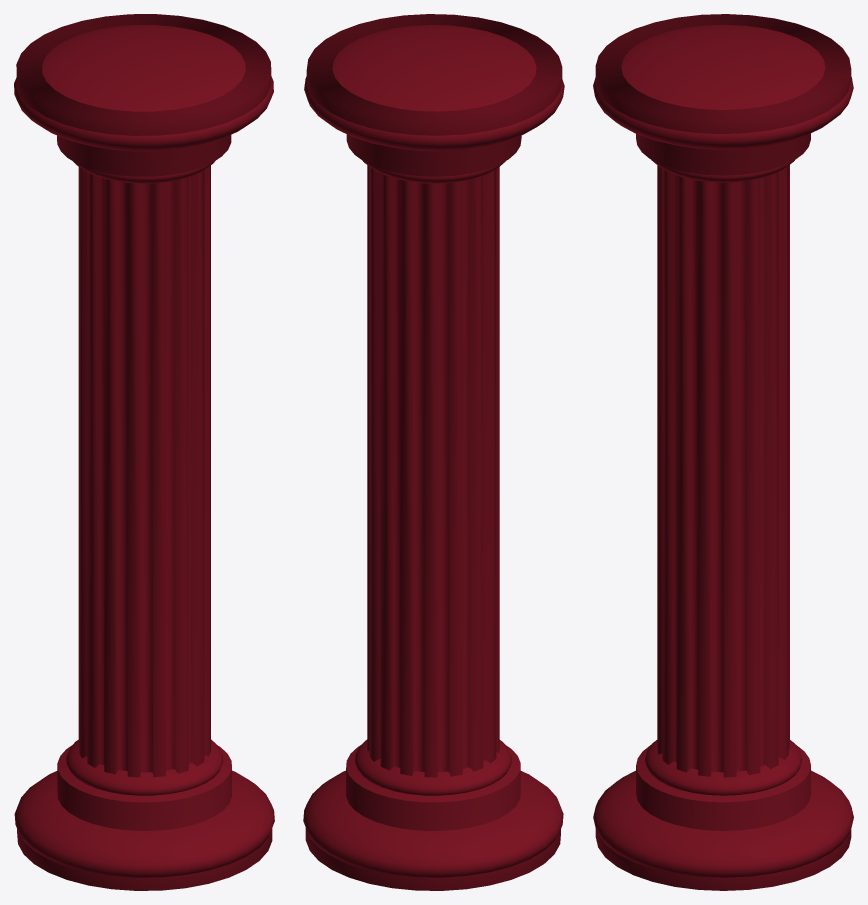
File: column.fbx
3 views of the same model, side by side, from view 1: azimuth 30°, elevation 25°; view 2: azimuth 150°, elevation 25°; view 3: azimuth 270°, elevation 25° (orthographic).
Parts seen in each view (by area): view 1: Cylinder, Sphere.003, Cylinder.001, Sphere.001, Sphere, Sphere.002; view 2: Cylinder, Sphere.003, Cylinder.001, Sphere.001, Sphere, Sphere.002; view 3: Cylinder, Sphere.003, Cylinder.001, Sphere.001, Sphere, Sphere.002.
Part boxes in pixels (x1,y1,x2,y2): Cylinder: [17, 165, 272, 890]; Sphere.003: [14, 25, 273, 151]; Cylinder.001: [16, 14, 271, 176]; Sphere.001: [14, 770, 274, 877]; Sphere: [66, 739, 223, 795]; Sphere.002: [73, 161, 214, 183]; Cylinder: [305, 165, 560, 890]; Sphere.003: [304, 25, 564, 151]; Cylinder.001: [306, 14, 562, 176]; Sphere.001: [303, 770, 563, 877]; Sphere: [355, 739, 511, 795]; Sphere.002: [363, 161, 505, 183]; Cylinder: [595, 165, 851, 890]; Sphere.003: [593, 24, 853, 149]; Cylinder.001: [595, 14, 851, 175]; Sphere.001: [593, 770, 853, 877]; Sphere: [645, 740, 802, 795]; Sphere.002: [651, 160, 794, 182].
Size of the model in its own units: 395 by 1320 by 393.
